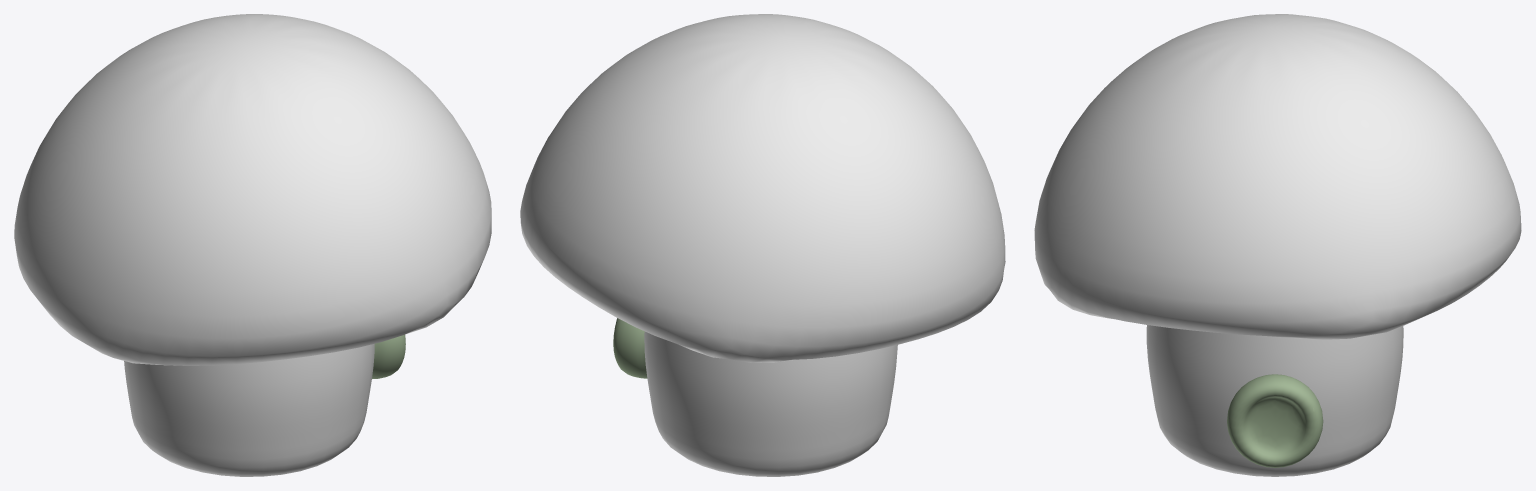
File: PuffShroom.fbx
3 views of the same model, side by side, from view 1: azimuth 30°, elevation 25°; view 2: azimuth 150°, elevation 25°; view 3: azimuth 270°, elevation 25° (orthographic).
Visible parts, largest first — view 1: PuffShroomBottom; view 2: PuffShroomBottom; view 3: PuffShroomBottom.
Part boxes in pixels (bbox=[...]): PuffShroomBottom: bbox=[14, 14, 491, 476]; PuffShroomBottom: bbox=[520, 14, 1005, 476]; PuffShroomBottom: bbox=[1034, 14, 1521, 476].
Size of the model in its own units: 195 by 179 by 195.
Materials: 2 (1 with a texture image).
